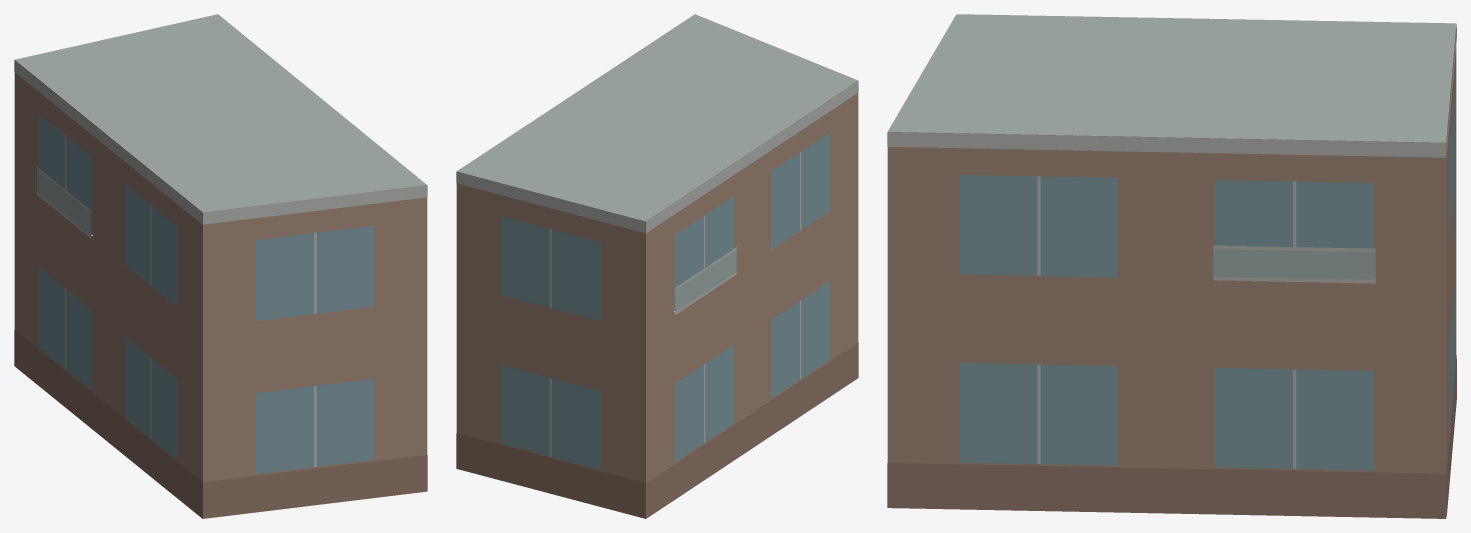
File: survey-upis-32493720.glb
The picture shows the model from 3 angles, left to right: view 1: azimuth 30°, elevation 25°; view 2: azimuth 150°, elevation 25°; view 3: azimuth 270°, elevation 25°; orthographic projection. The views are drawn at different scales.
Visible parts, largest first — view 1: survey-upis-32493720.tmp; view 2: survey-upis-32493720.tmp; view 3: survey-upis-32493720.tmp.
Boxes of the visible parts, x1,y1,x2,y2 form: survey-upis-32493720.tmp: (14, 14, 427, 518); survey-upis-32493720.tmp: (456, 14, 858, 518); survey-upis-32493720.tmp: (887, 14, 1456, 518).
Size of the model in its own units: 4.49 by 6.1 by 8.38.
